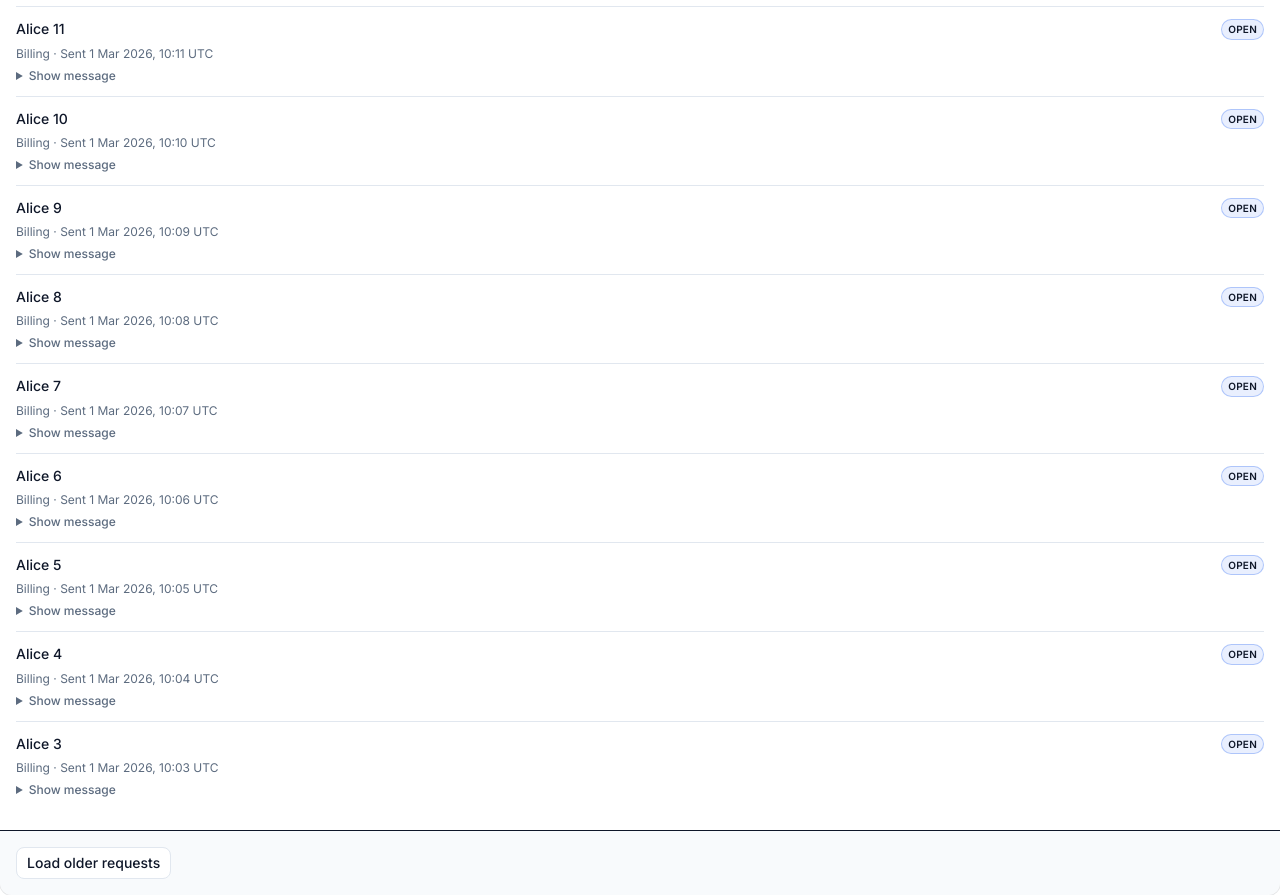
the history › shows only the signed-in user's requests, newest first, a page at a time
(page scrolled)
Click the button "Load older requests". click: x=94, y=863
box: 16,847 -> 171,879
(page scrolled)
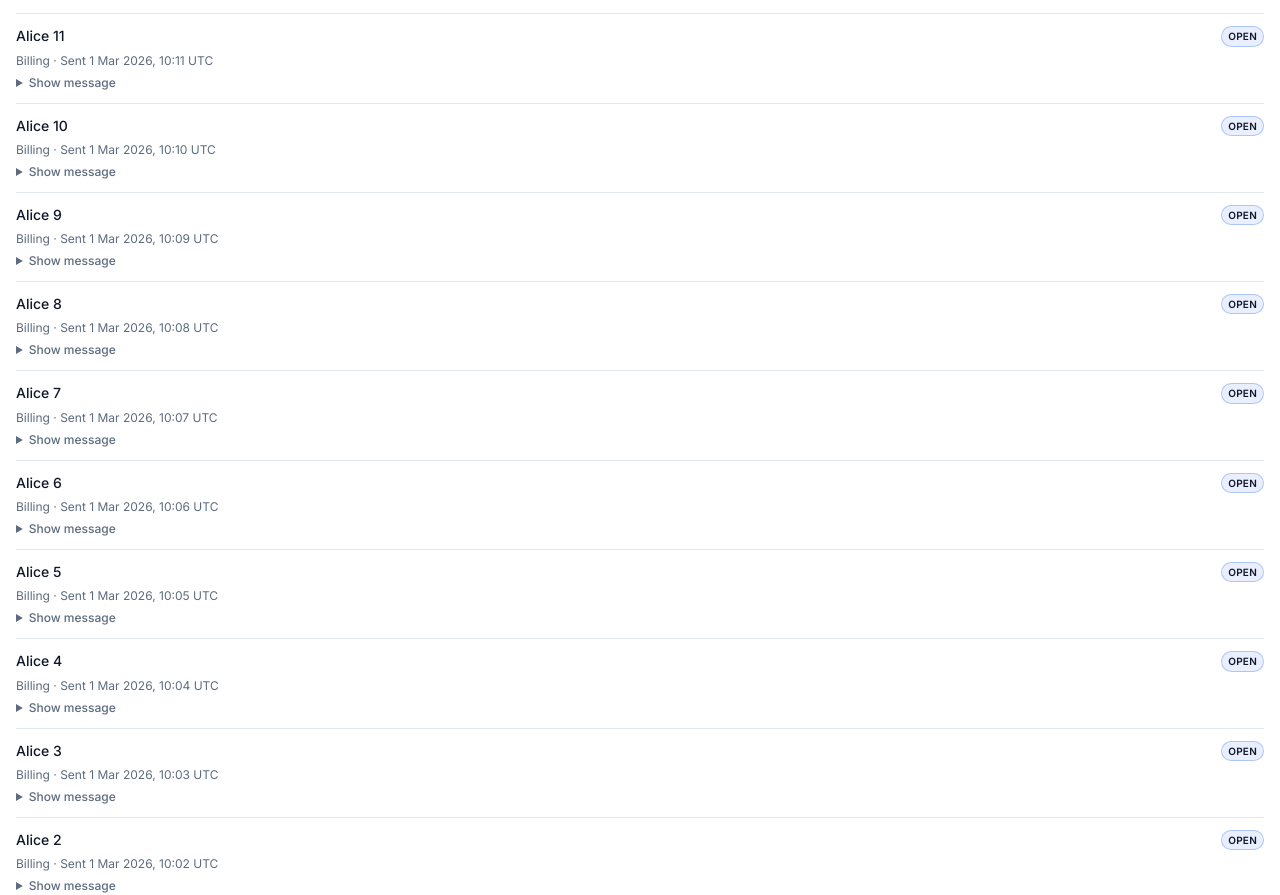
Expected: the button "Load older requests" is gone
